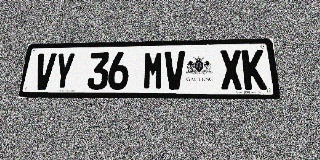3: (87, 52, 110, 90)
6: (107, 52, 130, 90)
K: (241, 49, 267, 90)
M: (143, 51, 164, 90)
V: (32, 53, 57, 90), (164, 51, 185, 90)
X: (219, 50, 244, 90)
Y: (52, 53, 76, 90)
